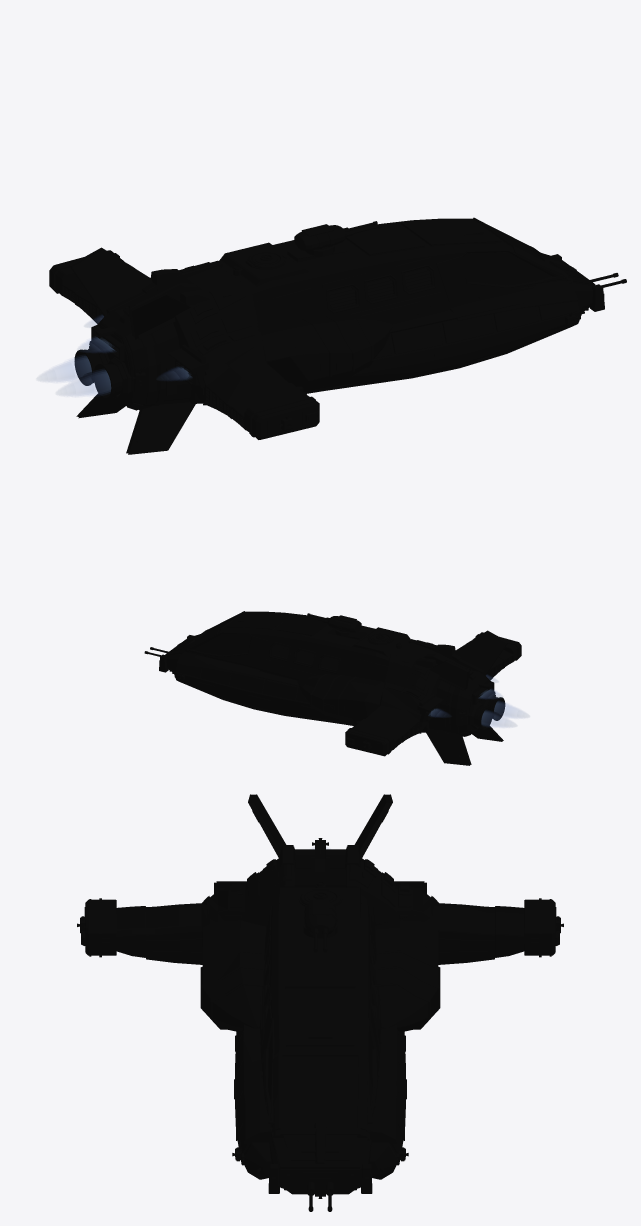
The model's file is plume_t100_occ.glb.
3 views of the same model, one above another, from view 1: azimuth 30°, elevation 25°; view 2: azimuth 150°, elevation 25°; view 3: azimuth 270°, elevation 25° (orthographic). The views are drawn at different scales.
Visible parts, largest first — view 1: HullOccluder, Plume_Main_R, Plume_Main_L; view 2: HullOccluder, Plume_Main_L, Plume_Main_R; view 3: HullOccluder.
Part boxes in pixels (x1,y1,x2,y2): HullOccluder: (49, 217, 626, 454); Plume_Main_R: (60, 370, 110, 395); Plume_Main_L: (41, 356, 91, 381); HullOccluder: (144, 611, 521, 765); Plume_Main_L: (481, 711, 514, 726); Plume_Main_R: (494, 701, 526, 717); HullOccluder: (77, 794, 563, 1211).
Size of the model in its own units: 18.25 by 5.33 by 12.99.
3 materials, 2 textured.
